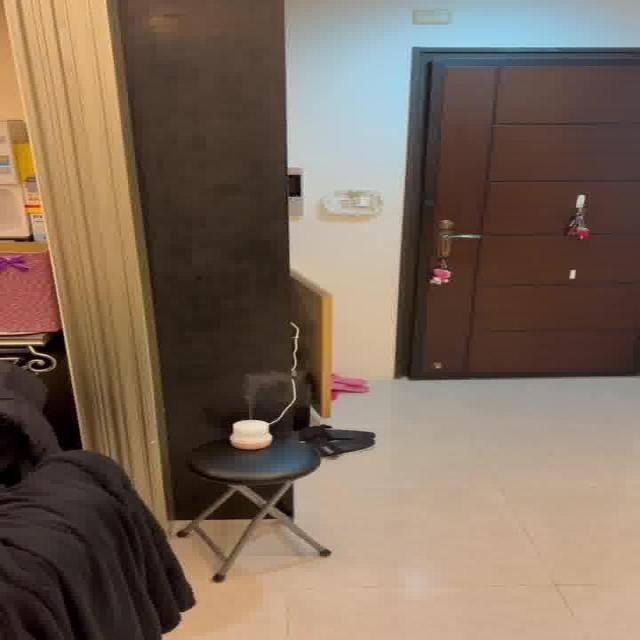fire: (233, 368, 283, 408)
